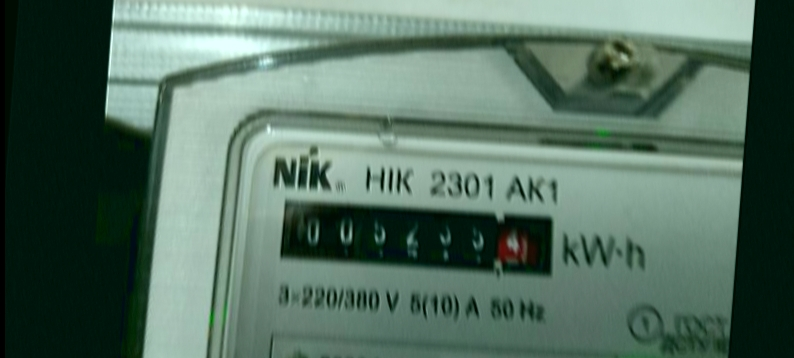0: (337, 213, 360, 247), (305, 214, 325, 247)
2: (403, 215, 427, 250)
3: (435, 215, 462, 250)
4: (504, 221, 528, 258)
5: (469, 217, 494, 254), (371, 214, 393, 248)
screen: (264, 183, 572, 292)
